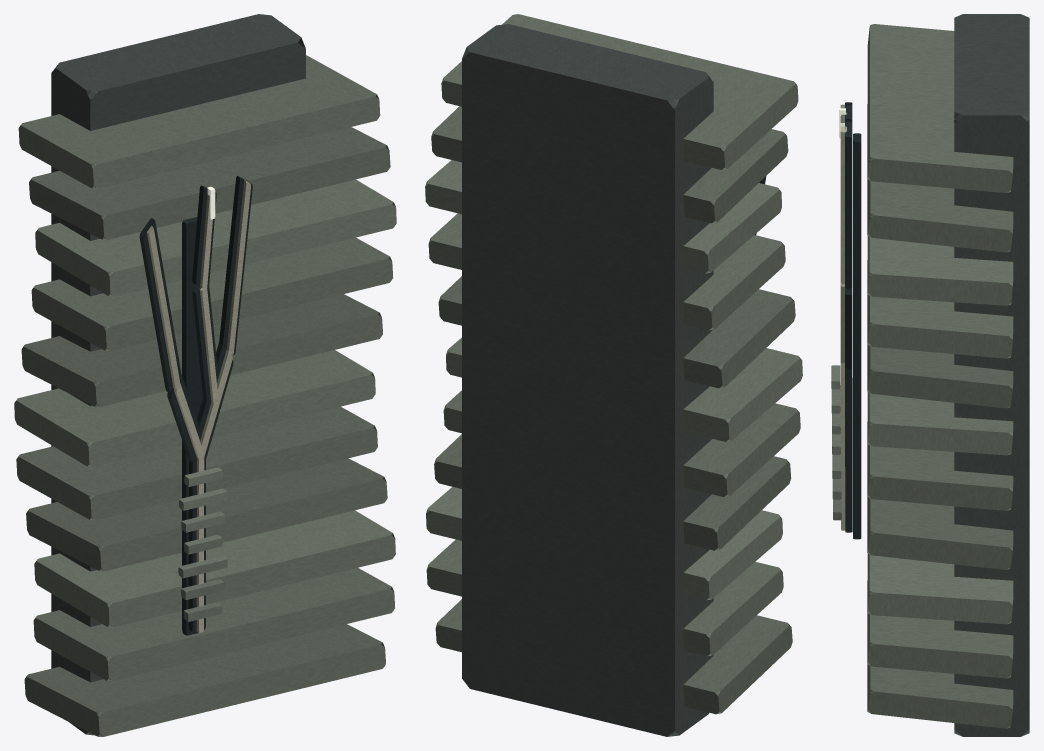
The model's file is cataclysm_forge_lamella.glb.
The picture shows the model from 3 angles, left to right: view 1: azimuth 30°, elevation 25°; view 2: azimuth 150°, elevation 25°; view 3: azimuth 270°, elevation 25°; orthographic projection. The views are drawn at different scales.
Visible parts, largest first — view 1: cataclysm_forge_lamella; view 2: cataclysm_forge_lamella; view 3: cataclysm_forge_lamella.
Boxes of the visible parts, box(x1,y1,x2,y2) form: cataclysm_forge_lamella: box(14, 14, 396, 736); cataclysm_forge_lamella: box(425, 14, 802, 736); cataclysm_forge_lamella: box(831, 14, 1029, 736).
Size of the model in its own units: 0.9982 by 2 by 0.5781.
Materials: 3 (3 with a texture image).
